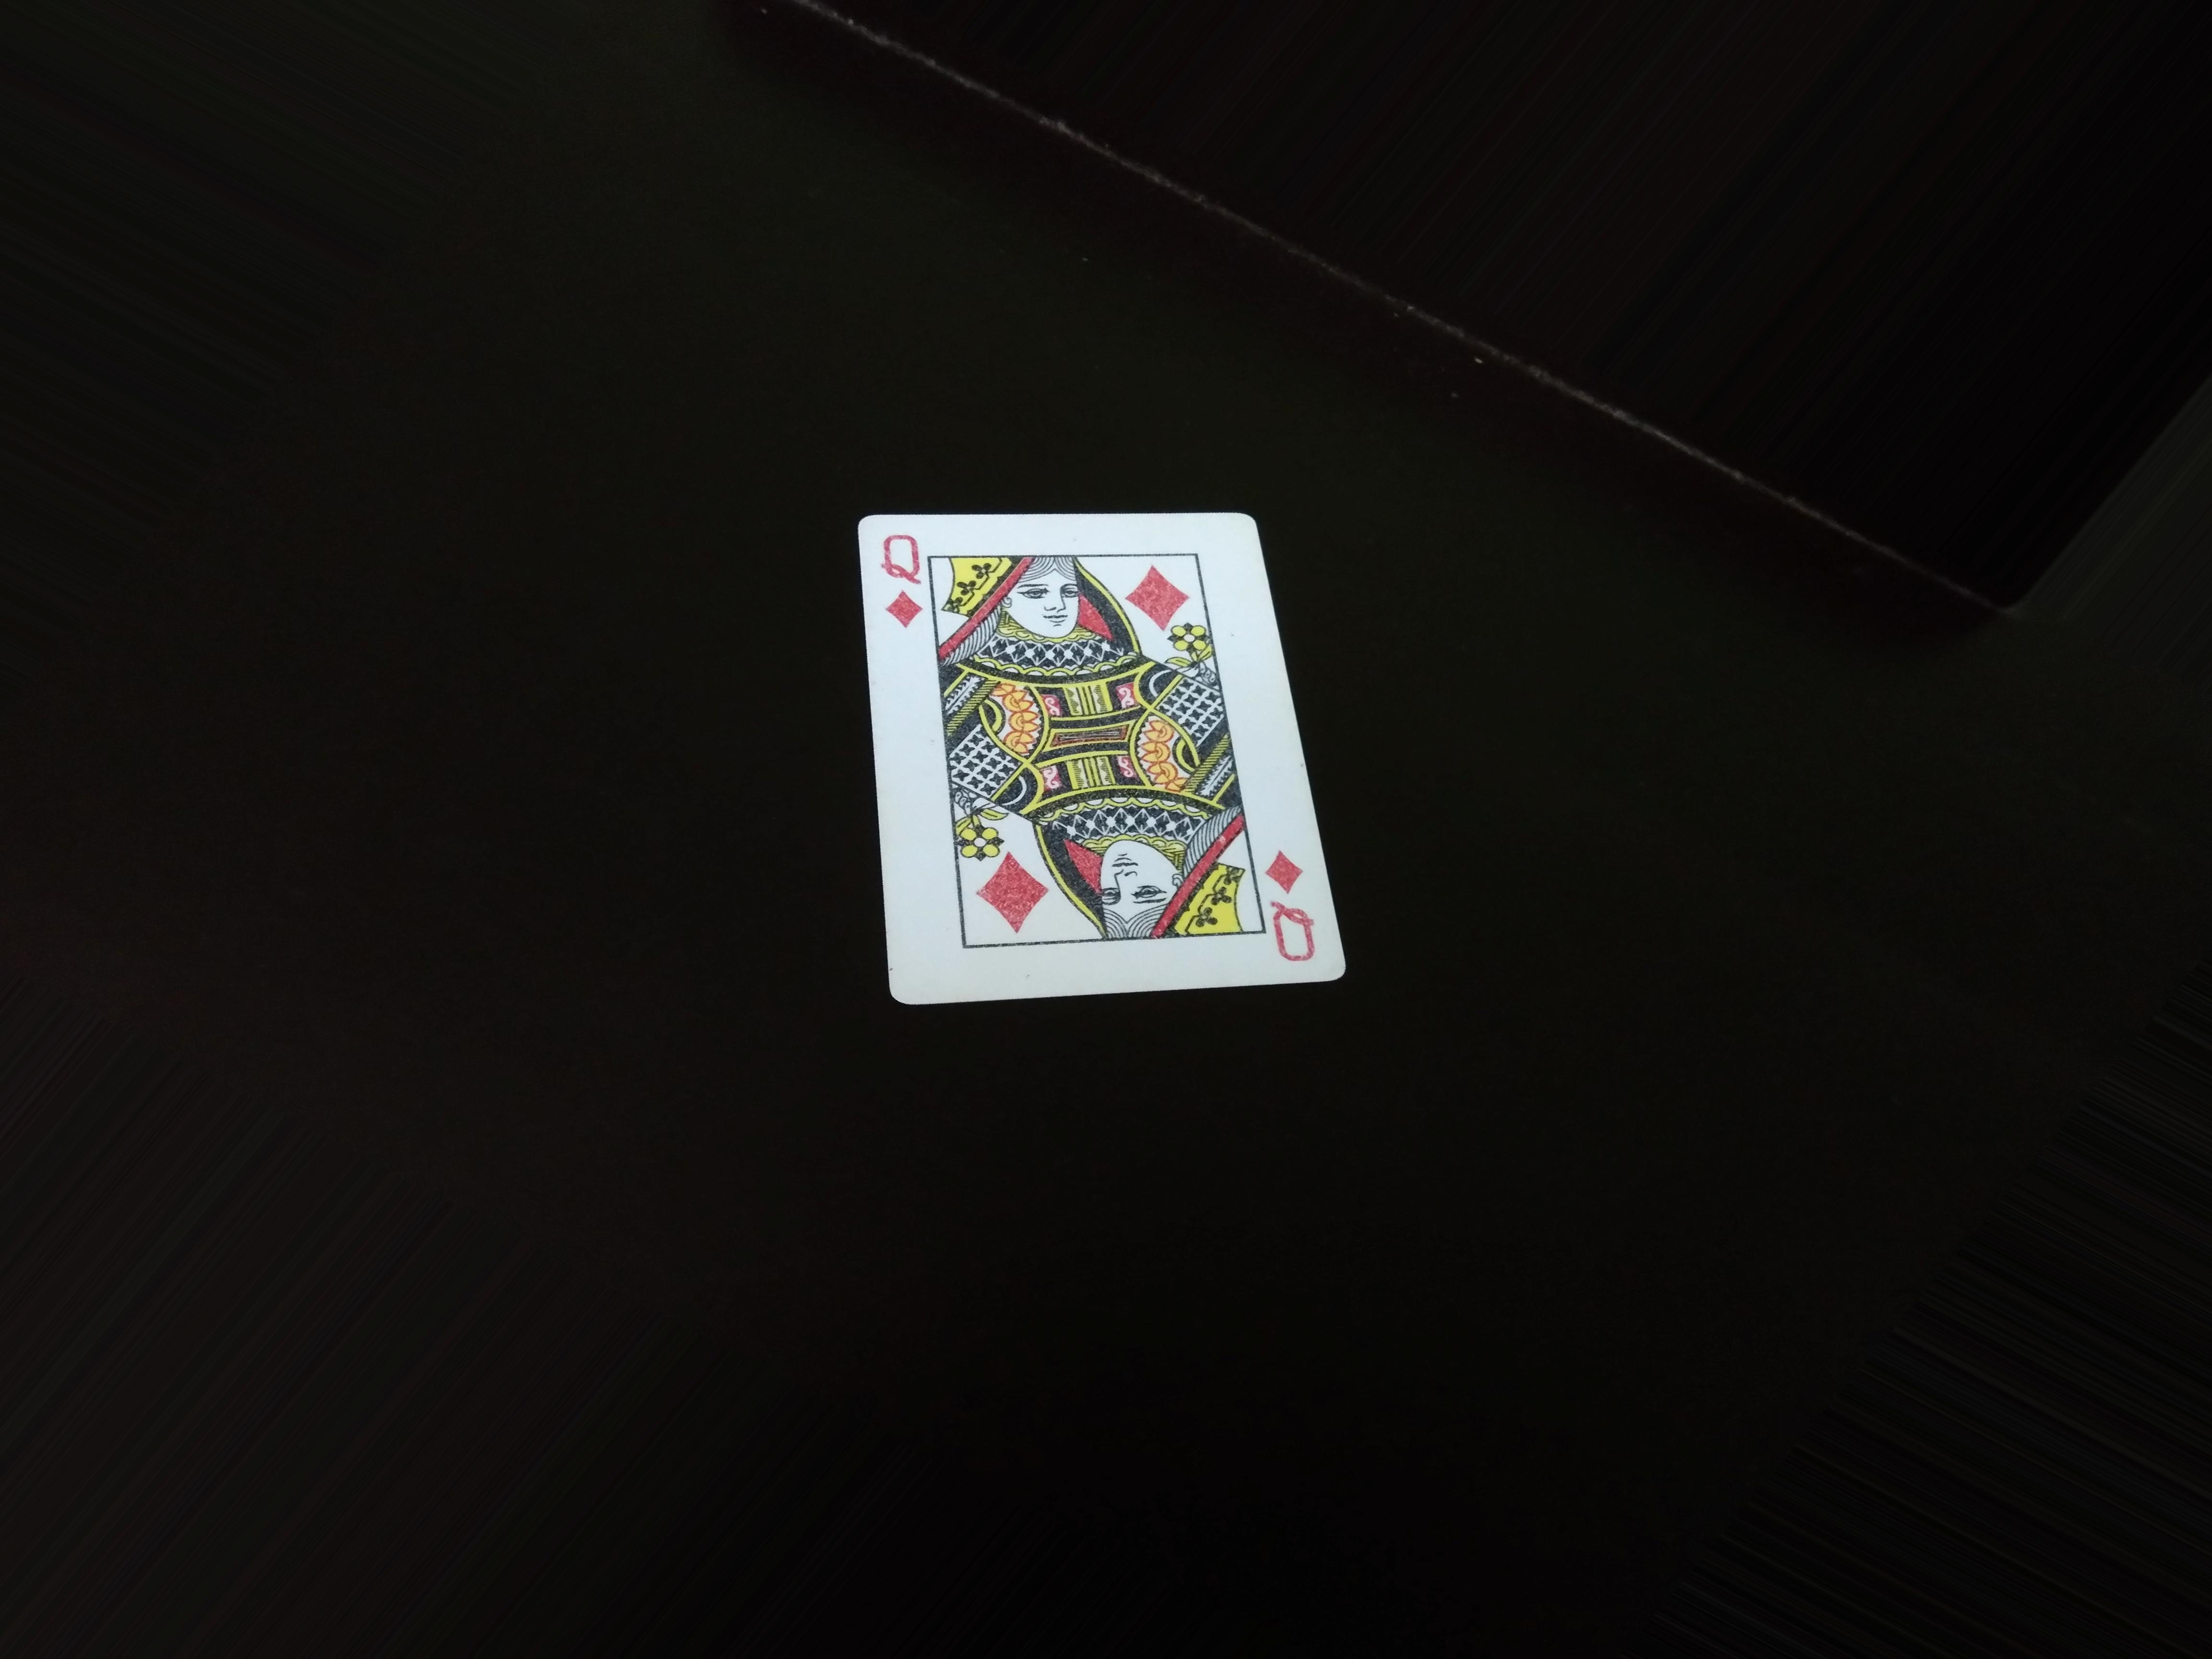QD: (873, 516, 937, 641)
